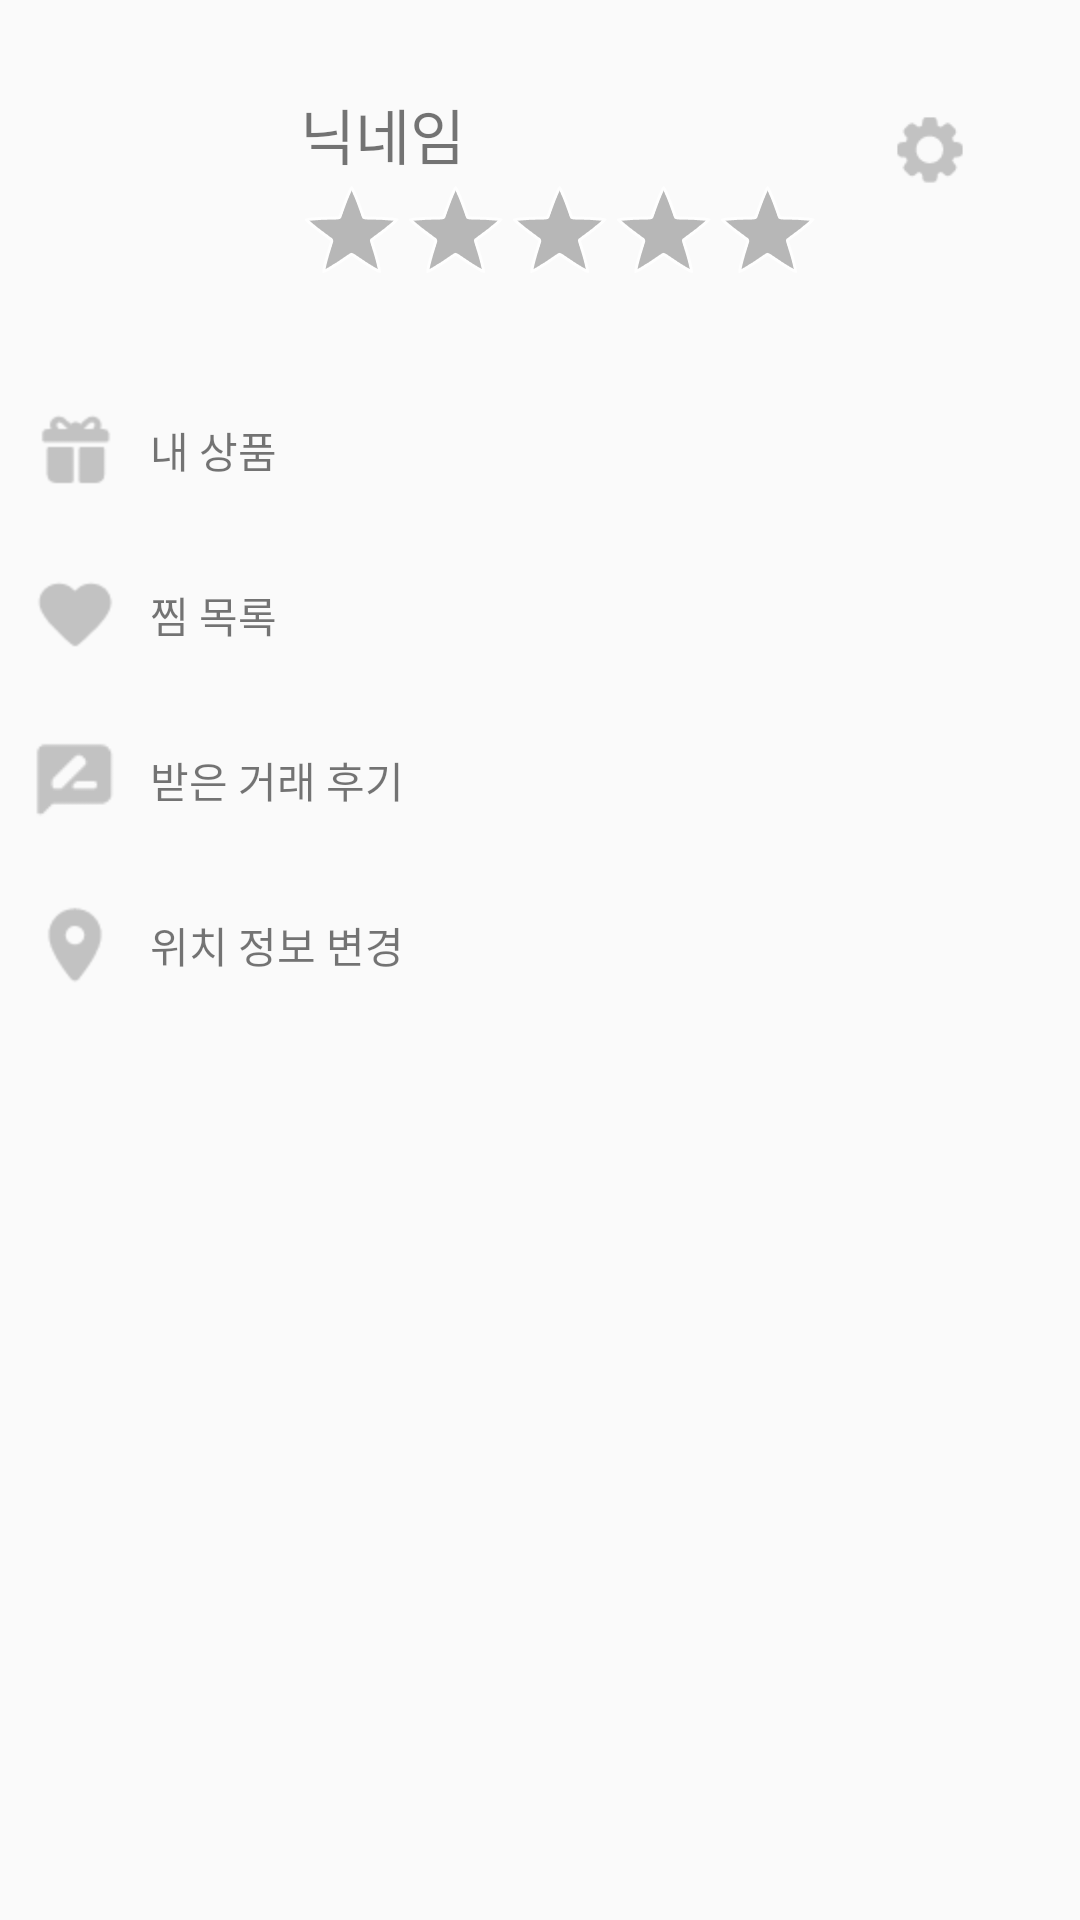

Icons on this 1080 x 1920 Android screen, each with its box as bbox(x1, y1, x2, y2):
heart: bbox(39, 584, 111, 646)
location: bbox(49, 908, 101, 981)
present: bbox(42, 417, 109, 483)
review: bbox(37, 744, 111, 814)
setting: bbox(897, 117, 963, 183)
